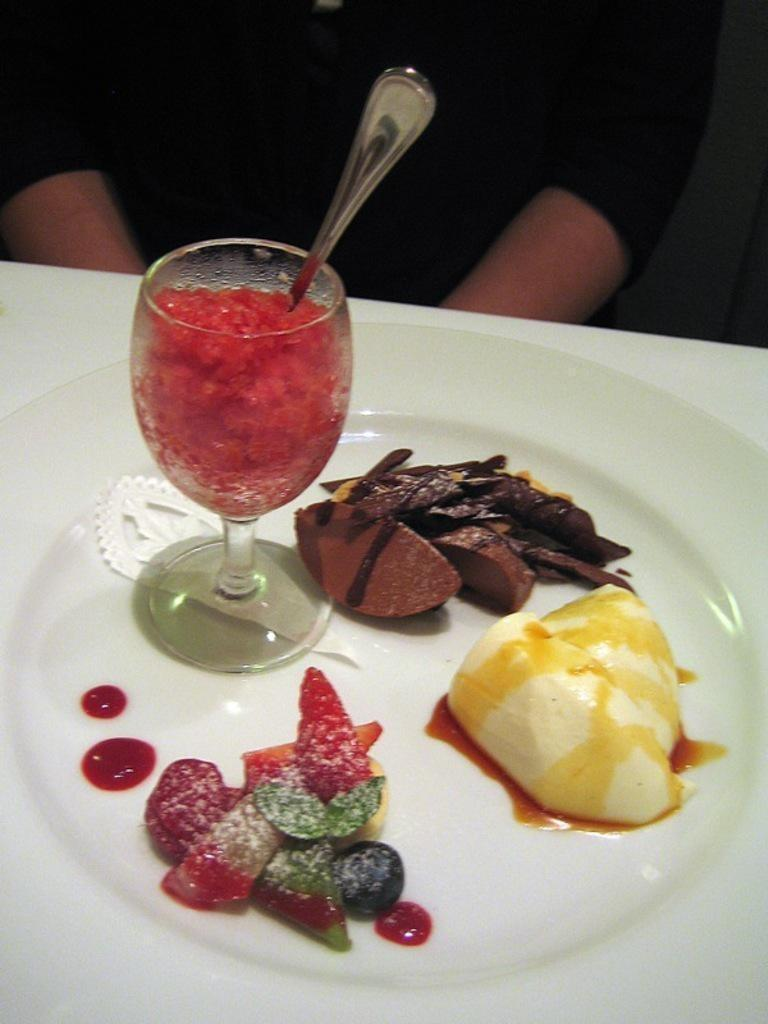glass-wine: (123, 236, 355, 675)
